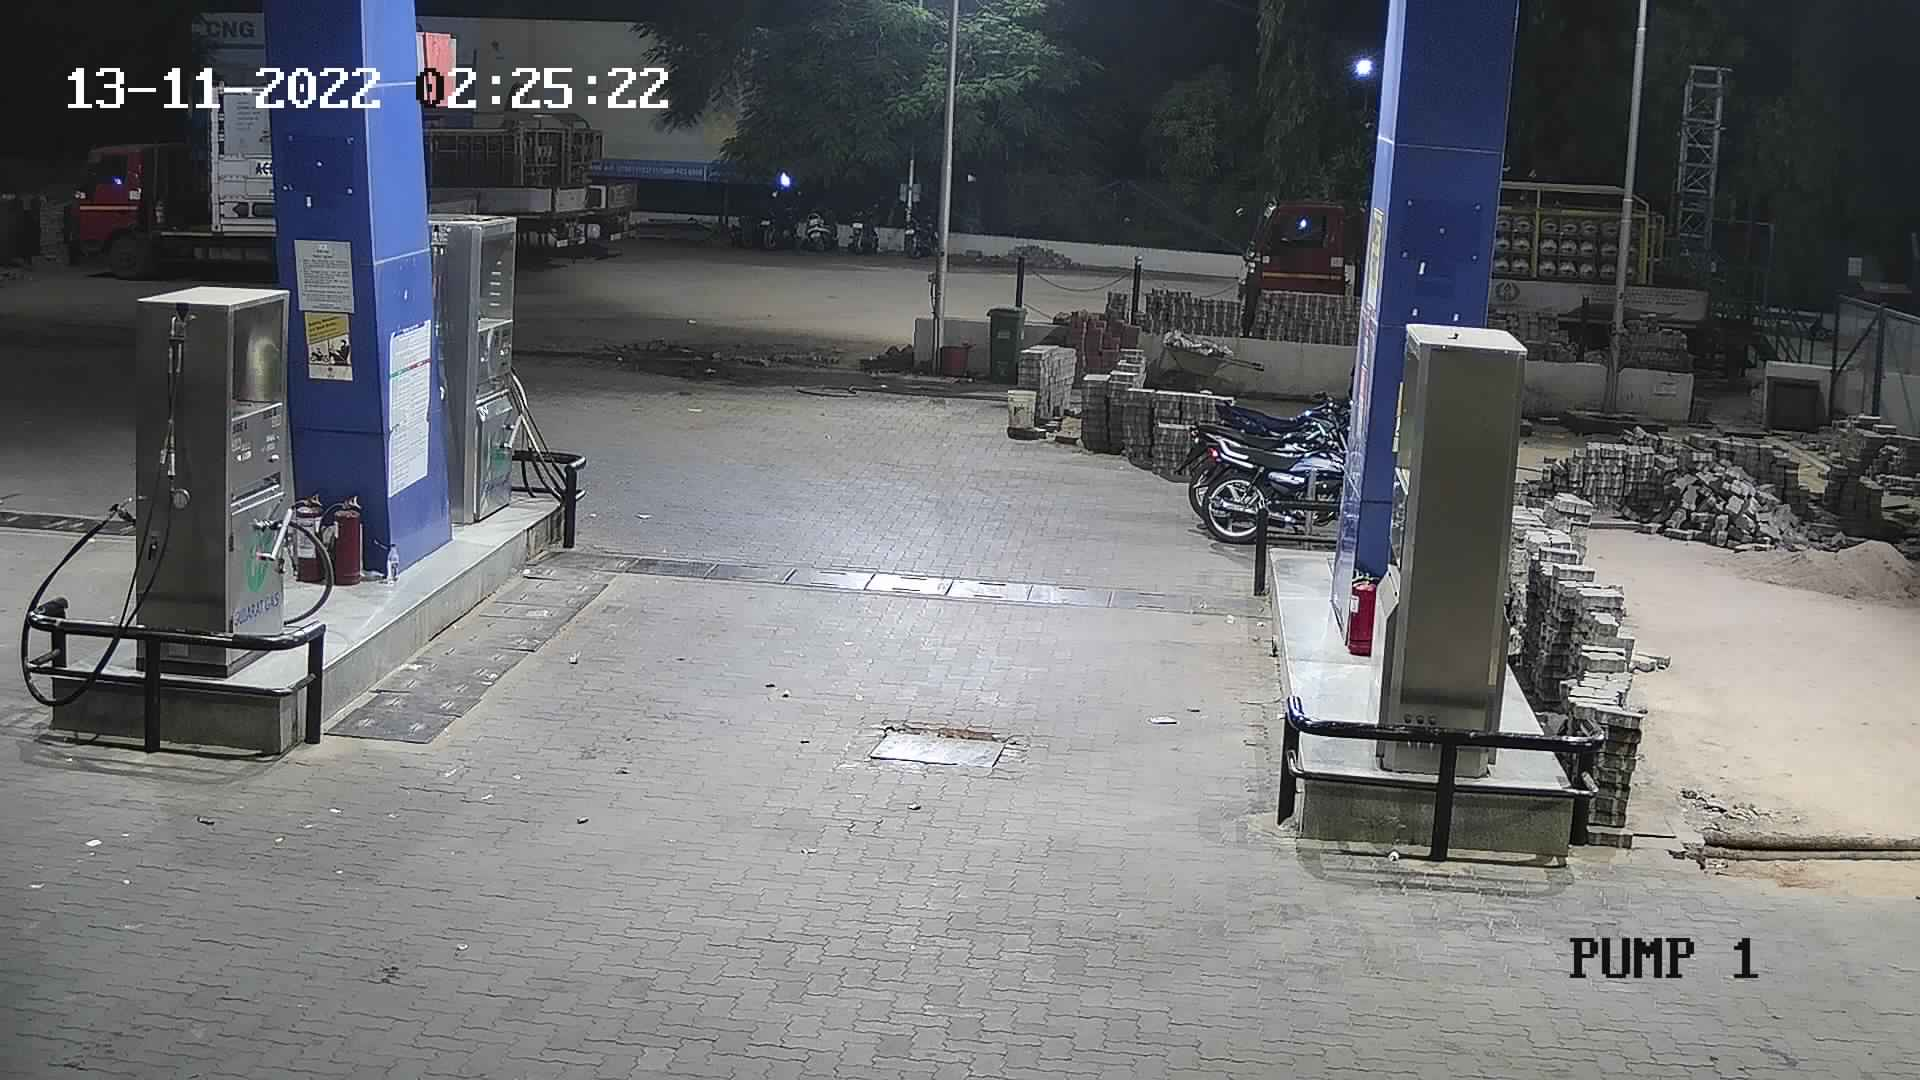Bike: (1176, 393, 1354, 563), (753, 179, 806, 260), (889, 189, 942, 260), (844, 187, 891, 255), (799, 187, 845, 248)
HMV: (63, 73, 285, 290), (415, 76, 646, 262), (1222, 181, 1371, 335)
